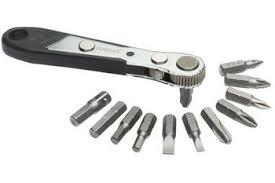screwdriver: (213, 98, 258, 128), (198, 106, 232, 144), (222, 85, 272, 110), (180, 111, 203, 152), (220, 72, 270, 89), (219, 57, 262, 75), (161, 113, 175, 154), (179, 87, 191, 108)
